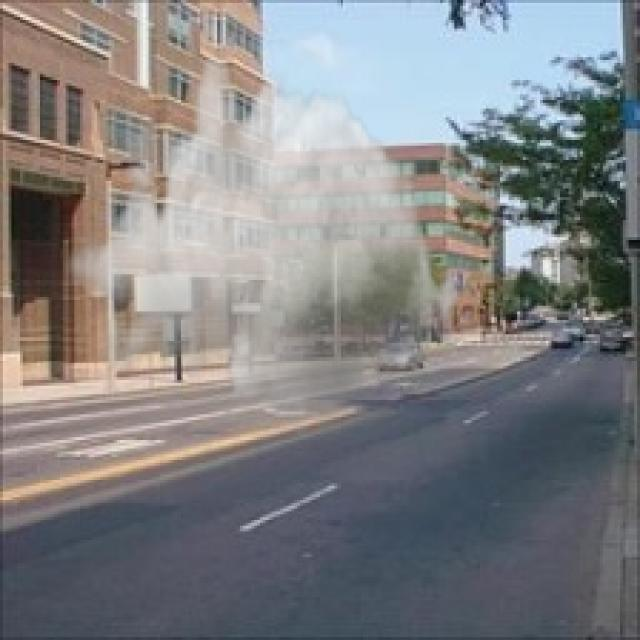Smoke: (63, 46, 463, 446)
